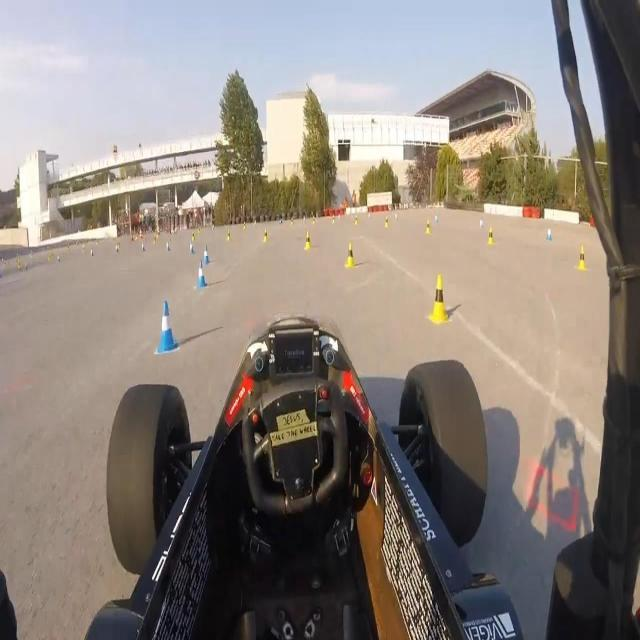blue_cone: (152, 298, 178, 353), (196, 263, 208, 293), (204, 241, 210, 267), (189, 241, 195, 257), (547, 226, 552, 240), (479, 217, 484, 229), (141, 240, 146, 252), (435, 214, 439, 224), (90, 248, 94, 257), (115, 244, 119, 253), (167, 241, 170, 252)
yellow_cone: (428, 272, 450, 327), (345, 241, 356, 269), (576, 245, 586, 272), (304, 230, 312, 252), (487, 228, 495, 245), (425, 219, 431, 235), (263, 228, 268, 244), (226, 230, 231, 242), (354, 214, 359, 226), (384, 215, 388, 229), (192, 230, 196, 242)
